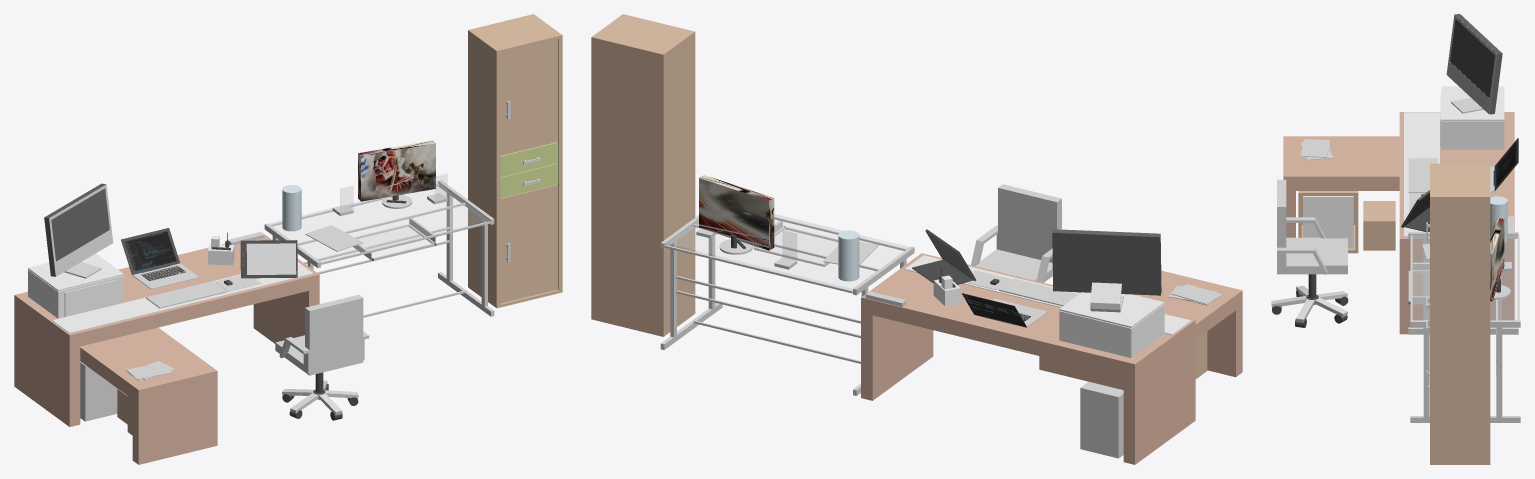
Rendered from studyroom10.glb.
3 renders of one model, left to right at view 1: azimuth 30°, elevation 25°; view 2: azimuth 150°, elevation 25°; view 3: azimuth 270°, elevation 25°, orthographic. The views are drawn at different scales.
Parts seen in each view (by area): view 1: Cube.078, Cube, Cube.023, Cube.008, Cube.080, Cube.001, Cube.004, Cube.003, PetitEcran, Cube.127, iMac, Cube.012 (+21 smaller); view 2: Cube.076, Cube, Cube.078, iMac, Cube.023, Cube.003, Cube.002, PetitEcran, Cube.001, Cube.127, Cube.007, Cube.016 (+15 smaller); view 3: Cube.084, Cube.001, Cube, Cube.023, iMac, Cube.002, Cube.012, Cube.069, Cube.083, Cube.128, Cube.007, Cube.017 (+22 smaller).
Part boxes in pixels (x1,y1,x2,y2): Cube.078: (468,31,500,305); Cube: (14,234,319,348); Cube.023: (269,182,490,262); Cube.008: (500,184,558,303); Cube.080: (500,39,558,155); Cube.001: (80,327,217,403); Cube.004: (132,384,217,464); Cube.003: (14,309,80,426); PetitEcran: (358,140,435,201); Cube.127: (305,294,363,367); iMac: (44,183,109,276); Cube.012: (52,262,313,333); Cube.076: (595,38,659,332); Cube: (861,253,1195,379); Cube.078: (659,35,695,333); iMac: (1052,229,1161,295); Cube.023: (666,214,908,290); Cube.003: (1123,335,1195,464); Cube.002: (861,312,933,400); PetitEcran: (699,175,774,250); Cube.001: (1039,270,1242,389); Cube.127: (998,184,1061,262); Cube.007: (1059,304,1164,357); Cube.016: (1080,381,1123,458); Cube.084: (1430,195,1490,461); Cube.001: (1283,136,1399,190); Cube: (1399,112,1514,253); Cube.023: (1410,234,1518,319); iMac: (1450,14,1502,114); Cube.002: (1399,253,1514,334); Cube.012: (1404,112,1439,236); Cube.069: (1303,196,1353,248); Cube.083: (1430,163,1490,199); Cube.128: (1277,238,1347,274); Cube.007: (1441,121,1504,149); Cube.017: (1363,201,1395,250).
Size of the model in its own units: 3.86 by 1.87 by 1.58.
19 materials, 2 textured.
